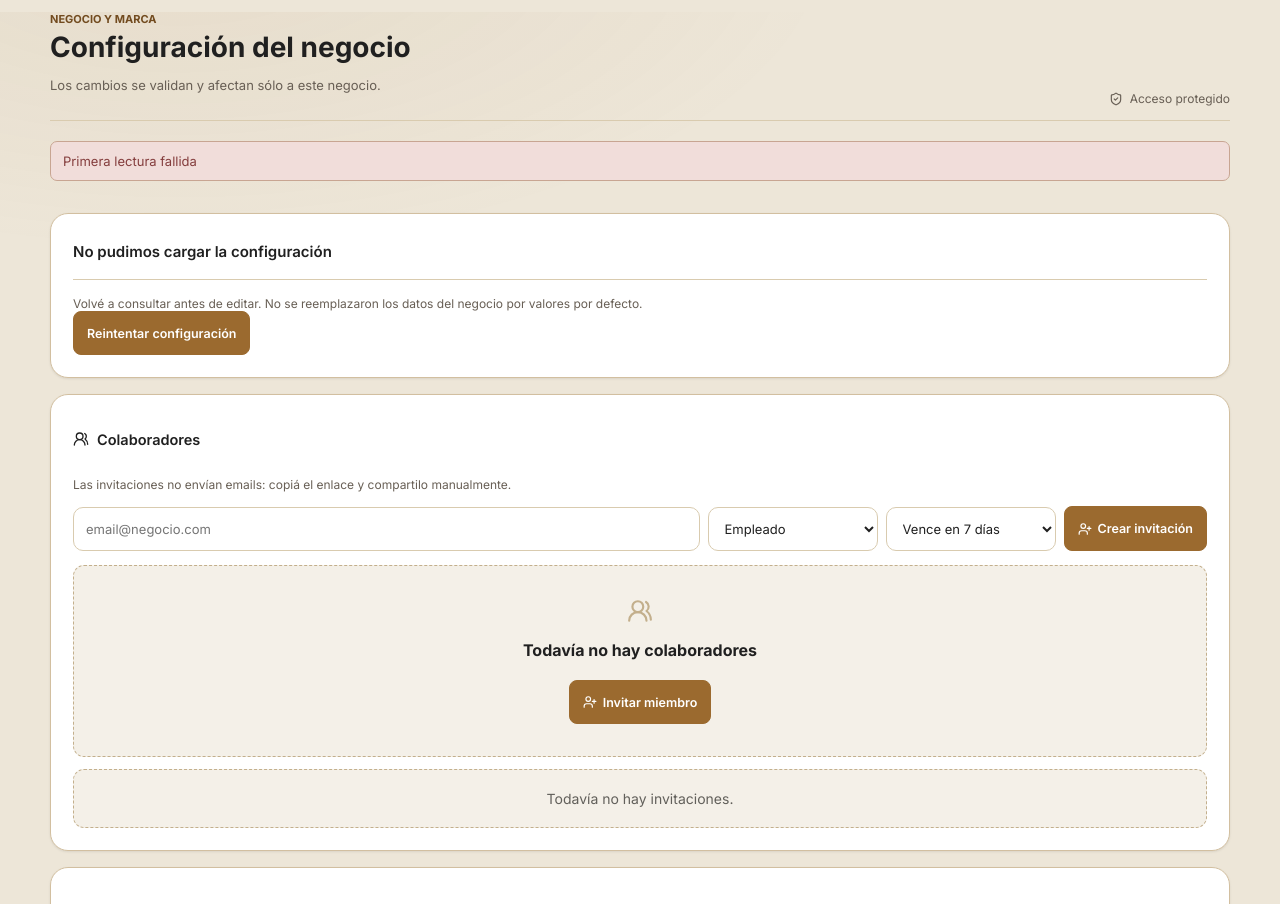
Test: Revisión independiente de Configuración (51/50) › StrictMode: el reintento termina aunque la invitación y su recarga lleguen después
Check: the button "Reintentar configuración" is shown, box [73,311,250,355]
Type "prueba@example.invalid" into the field named "Email de la invitación" at (386, 529), box [73,507,700,551]
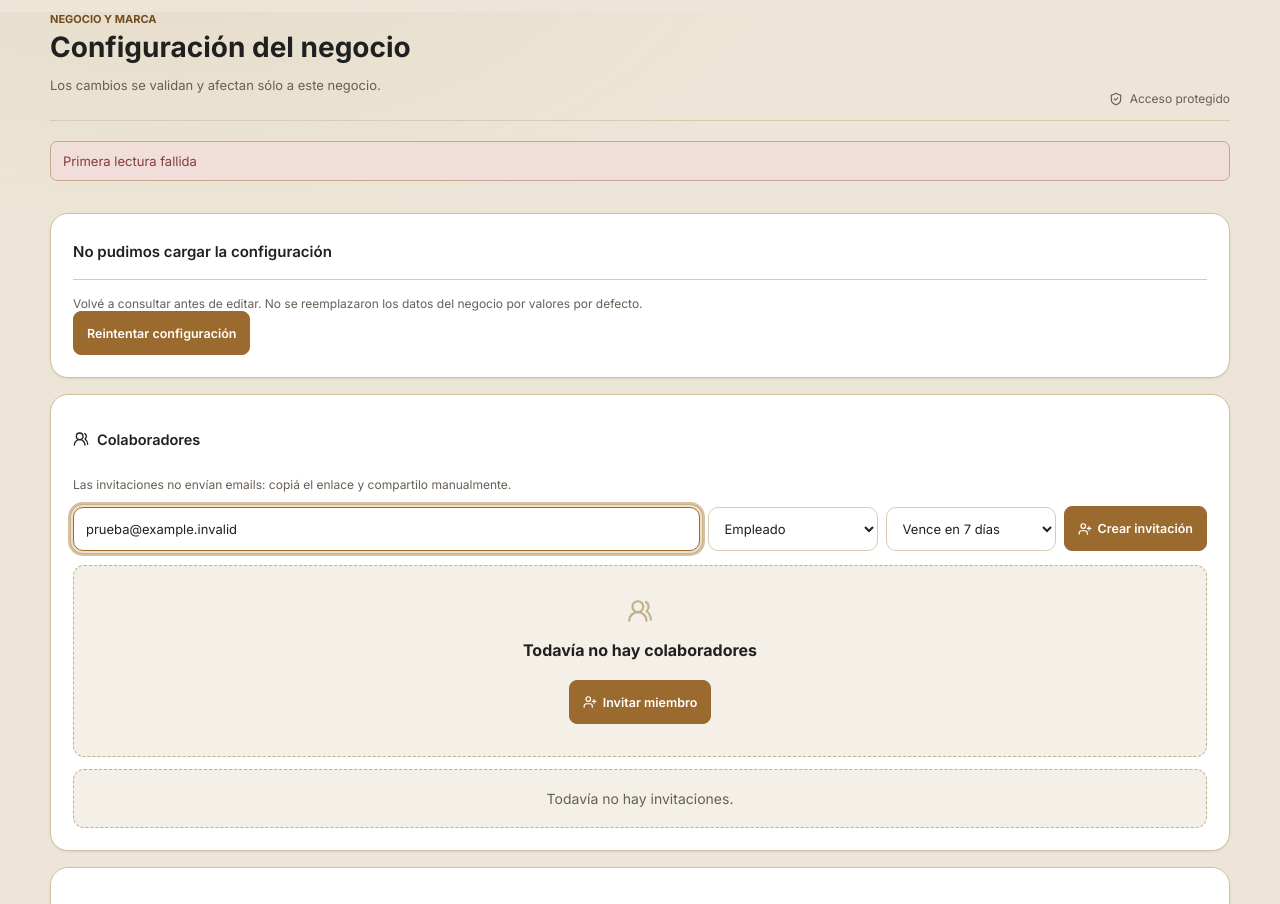
Click the button "Crear invitación" at (1135, 529), box [1064,506,1207,551]
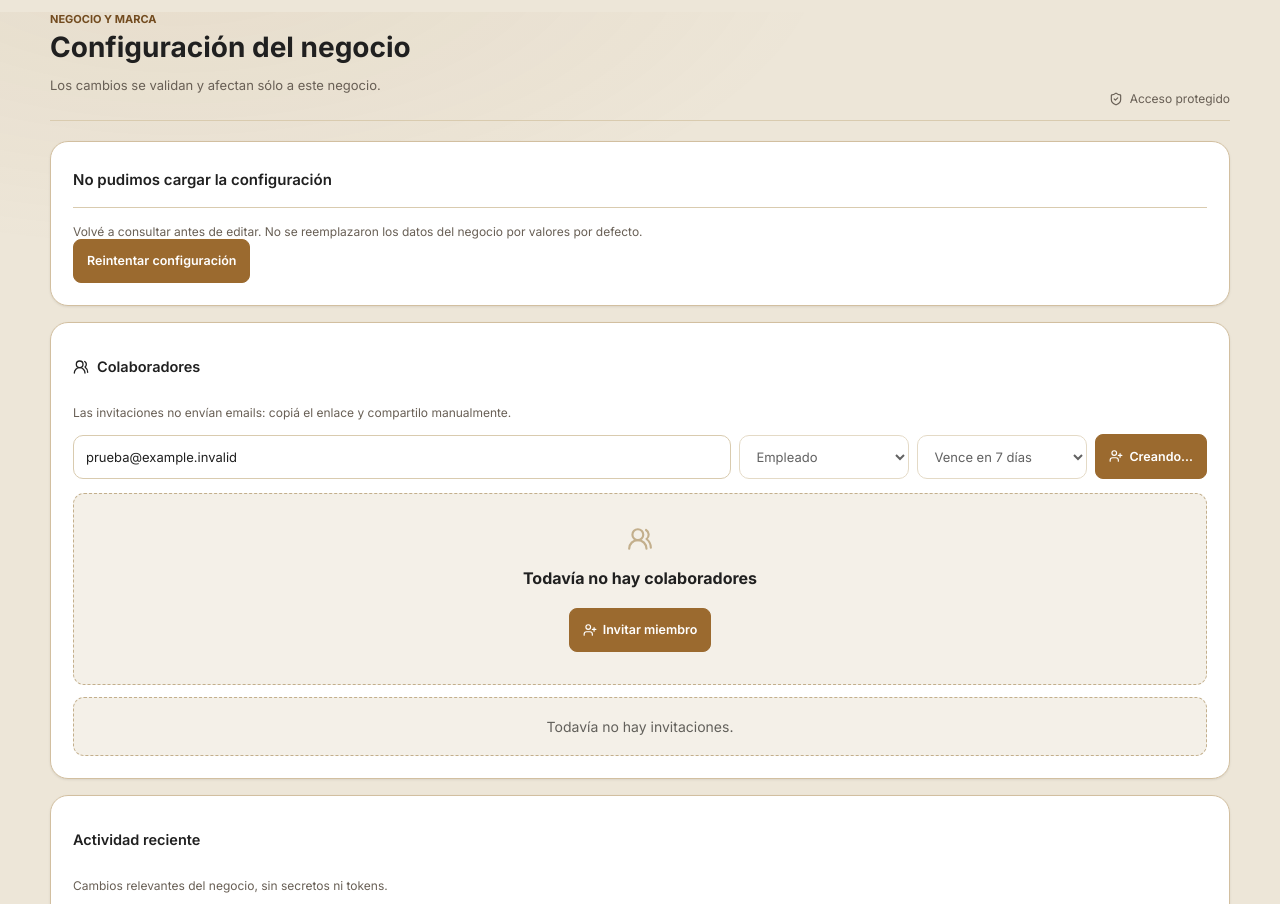
Click the button "Reintentar configuración" at (162, 261), box [73,239,250,283]
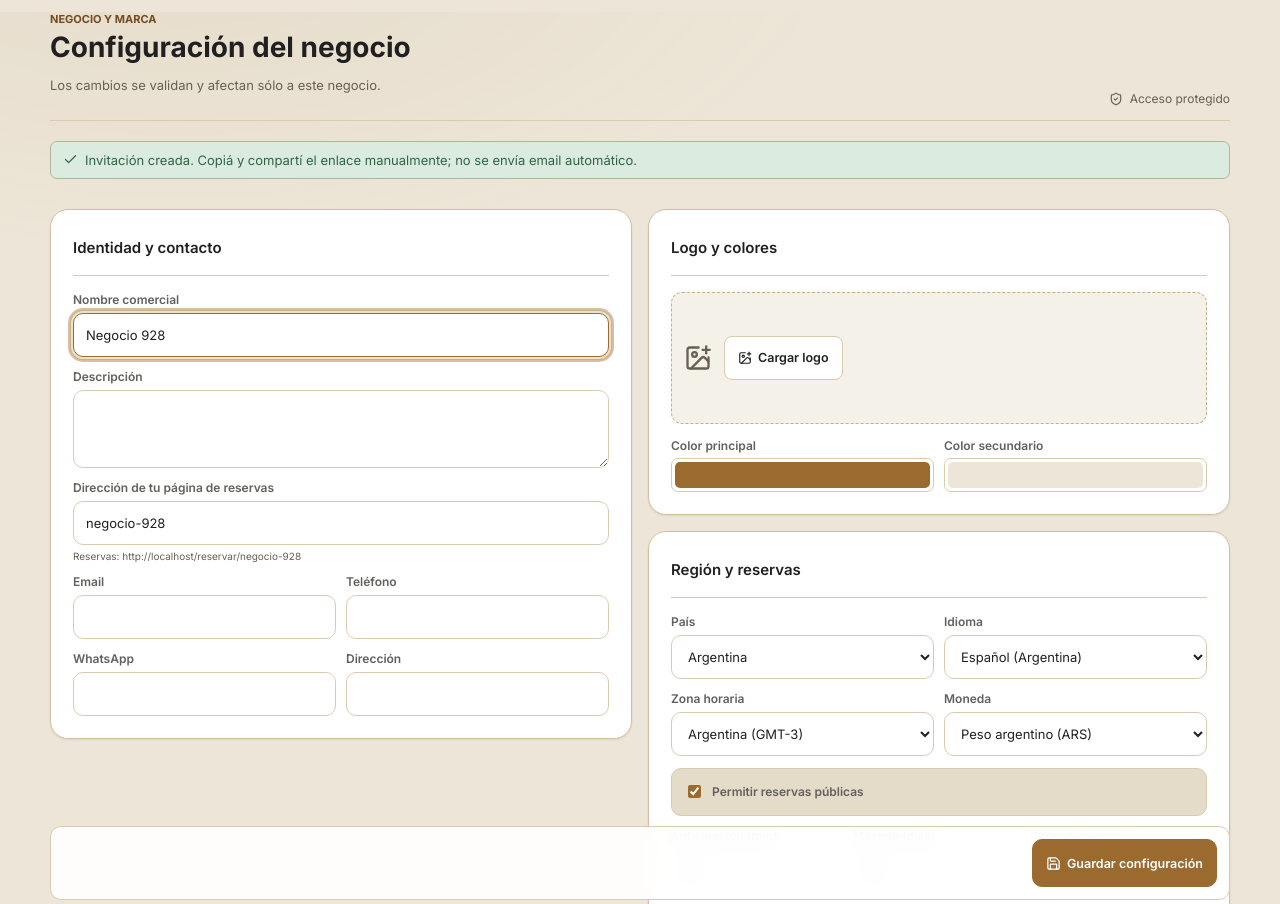
Check: the field labelled "Nombre comercial" holds "Negocio 928", box [73,313,609,357]
Check: the button "Guardar configuración" is enabled, box [1032,839,1217,887]
